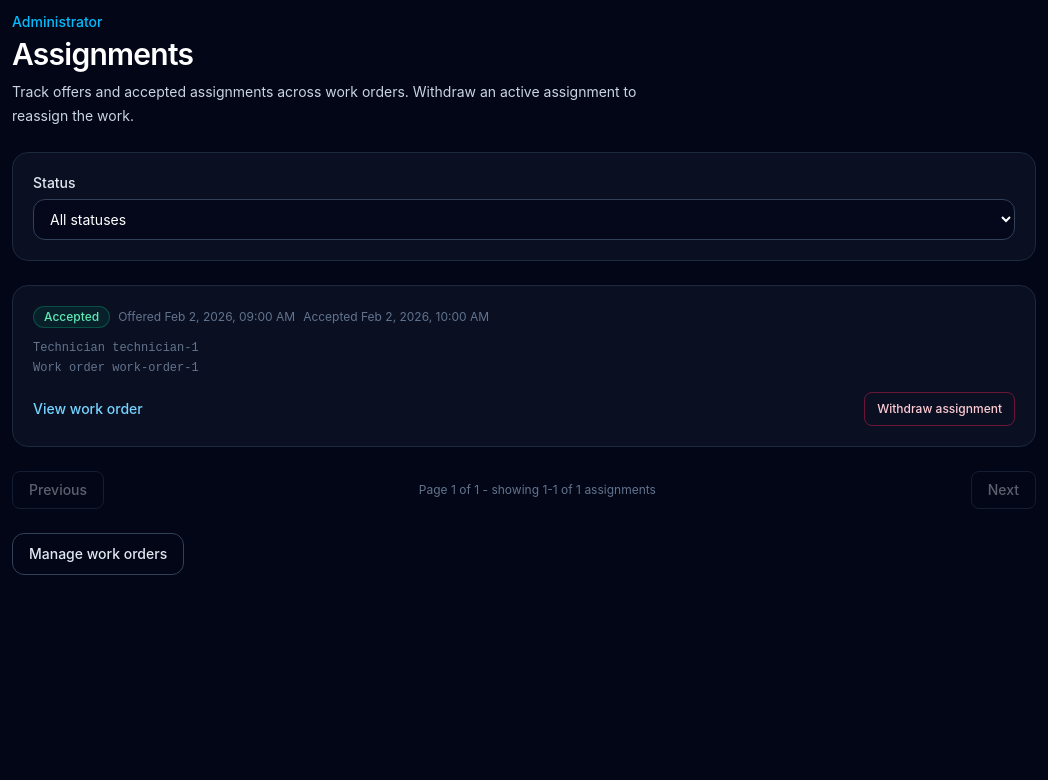
Test: administrator can retry a withdraw after an assignment conflict
Click the button "Withdraw assignment" at (940, 409), box [864,392,1015,426]
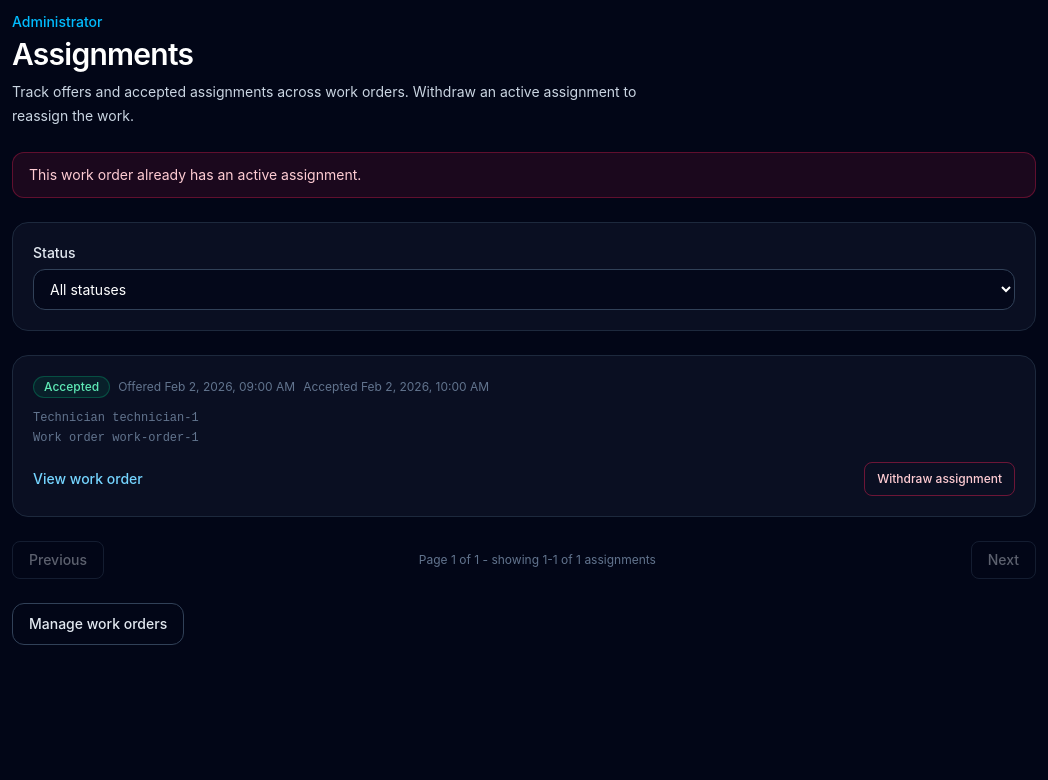
Expected: the text "This work order already has an active assignment." is shown, [12,152,1036,198]
Click the button "Withdraw assignment" at (940, 479), box [864,462,1015,496]
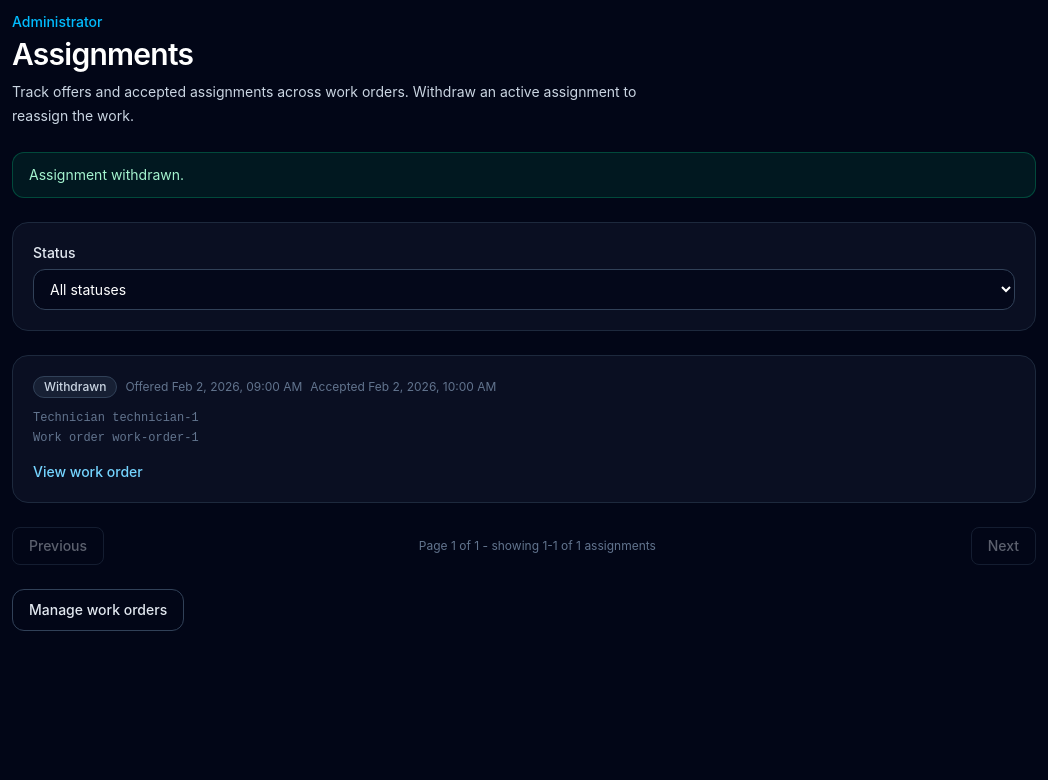
Expected: the text "Assignment withdrawn." is shown, [12,152,1036,198]
